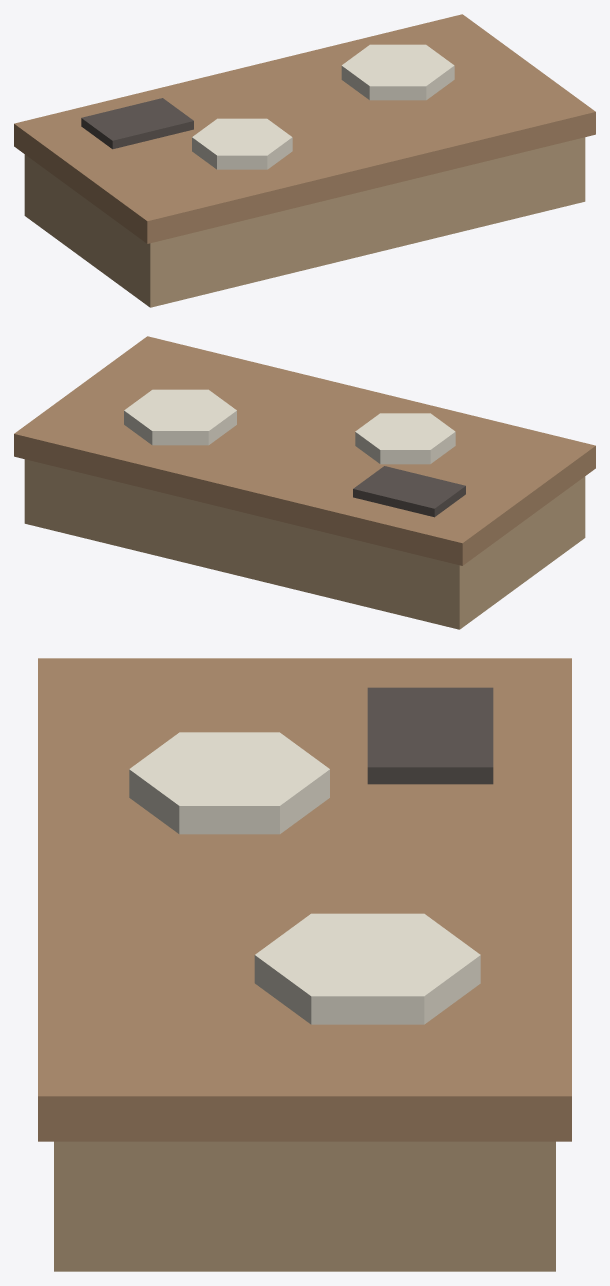
File: prop-button-polish-pad.fbx
3 views of the same model, one above another, from view 1: azimuth 30°, elevation 25°; view 2: azimuth 150°, elevation 25°; view 3: azimuth 270°, elevation 25° (orthographic). The views are drawn at different scales.
Visible parts, largest first — view 1: prop-button-polish-pad; view 2: prop-button-polish-pad; view 3: prop-button-polish-pad.
Part boxes in pixels (left/top/right/bottom): prop-button-polish-pad: left=14, top=14, right=595, bottom=307; prop-button-polish-pad: left=14, top=336, right=595, bottom=629; prop-button-polish-pad: left=38, top=658, right=571, bottom=1271.
Bounding box in the file's own units: 16.5 × 3.7 × 8.5.
